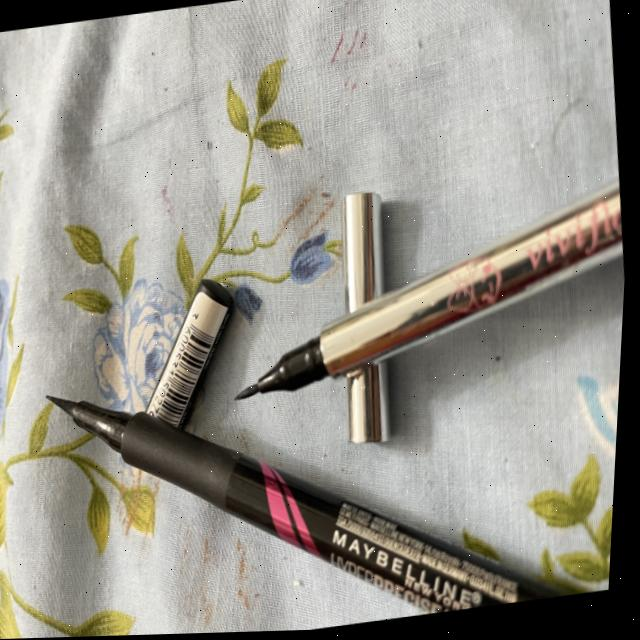eye liner: (12, 151, 633, 639), (210, 155, 633, 428), (21, 362, 211, 639)
